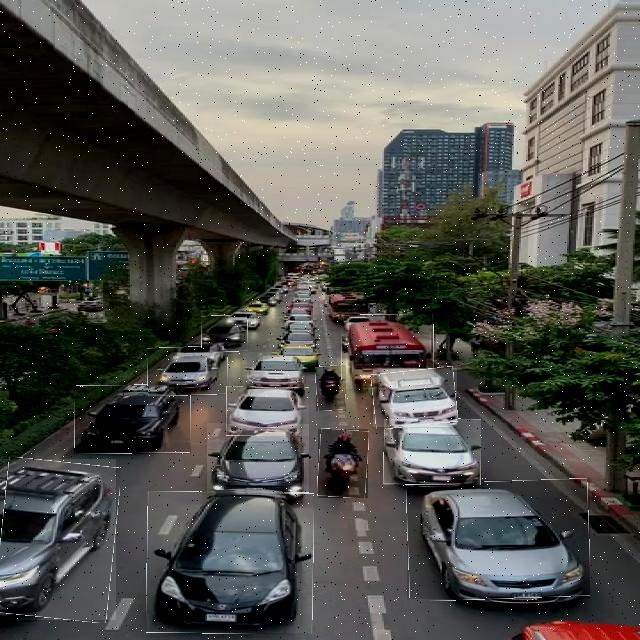Bus: (342, 314, 434, 389)
Car: (147, 492, 313, 633), (407, 480, 590, 599), (0, 459, 116, 620), (74, 385, 191, 454), (207, 424, 309, 494), (384, 419, 481, 485), (373, 368, 457, 427), (226, 387, 309, 436), (148, 347, 228, 396), (243, 352, 305, 390), (202, 316, 248, 352)
Motorcycle: (318, 429, 368, 498), (316, 365, 346, 411)
